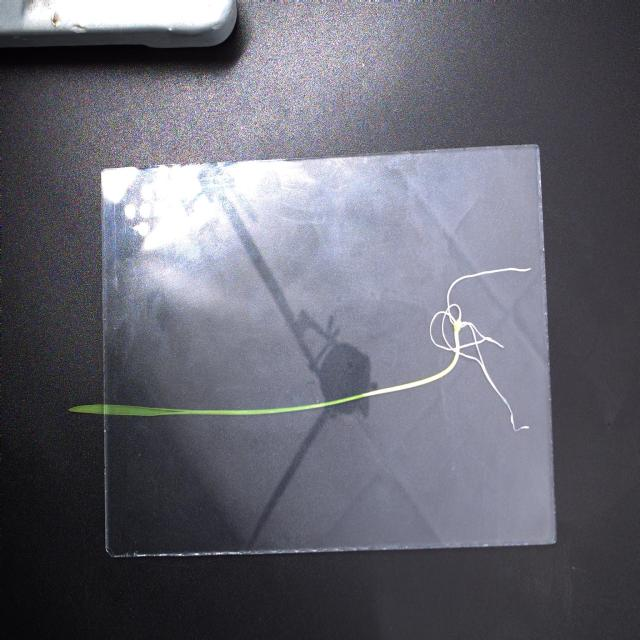leaf: (69, 404, 190, 417)
root: (445, 268, 531, 347), (472, 348, 509, 408), (430, 312, 442, 347)
stem: (326, 365, 454, 404)
